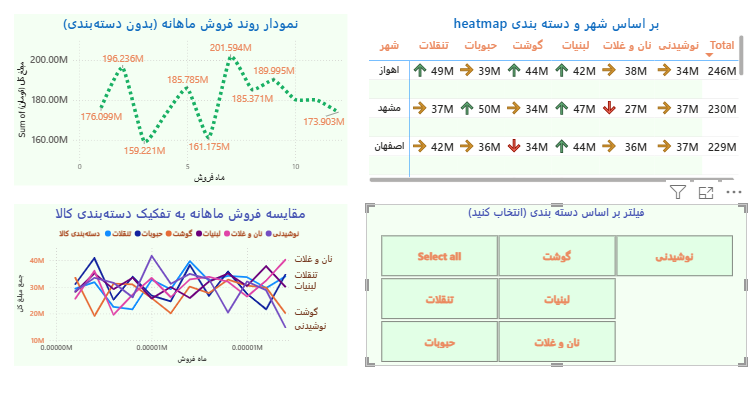

The page's visual inventory and layout, read from the dashboard file:
{"tool":"powerbi","page":{"name":"Page 2","canvas":[1280,720],"ordinal":1},"visuals":[{"type":"lineChart","title":"نمودار روند فروش ماهانه (بدون دستهبندی)","fields":{"Category":["market.ماه فروش"],"Y":["Sum(market.مبلغ کل (تومان))"]},"box":[32,80,560,288],"z":0},{"type":"lineChart","title":"مقایسه فروش ماهانه به تفکیک دستهبندی کالا","fields":{"Category":["market.ماه فروش"],"Y":["Sum(market.مبلغ کل (تومان))"],"Series":["market.دستهبندی کالا"]},"box":[32,400,560,272],"z":1},{"type":"pivotTable","title":"heatmap بر اساس شهر و دسته بندی","fields":{"Rows":["market.شهر"],"Columns":["market.دستهبندی کالا"],"Values":["Sum(market.مبلغ کل (تومان))"]},"box":[624,80,640,288],"z":3},{"type":"slicer","title":"فیلتر بر اساس دسته بندی (انتخاب کنید)","fields":{"Values":["market.دستهبندی کالا"]},"box":[624,400,640,272],"z":4}]}

Visuals, with their boxes on the page's 1280x720 design canvas (x1, y1, x2, y2). These are canvas units, not pixel positions in the 755x393 screenshot, which may show the page scaled, cropped or inside an application window:
"نمودار روند فروش ماهانه (بدون دستهبندی)" lineChart: (32,80,592,368)
"مقایسه فروش ماهانه به تفکیک دستهبندی کالا" lineChart: (32,400,592,672)
"heatmap بر اساس شهر و دسته بندی" pivotTable: (624,80,1264,368)
"فیلتر بر اساس دسته بندی (انتخاب کنید)" slicer: (624,400,1264,672)
